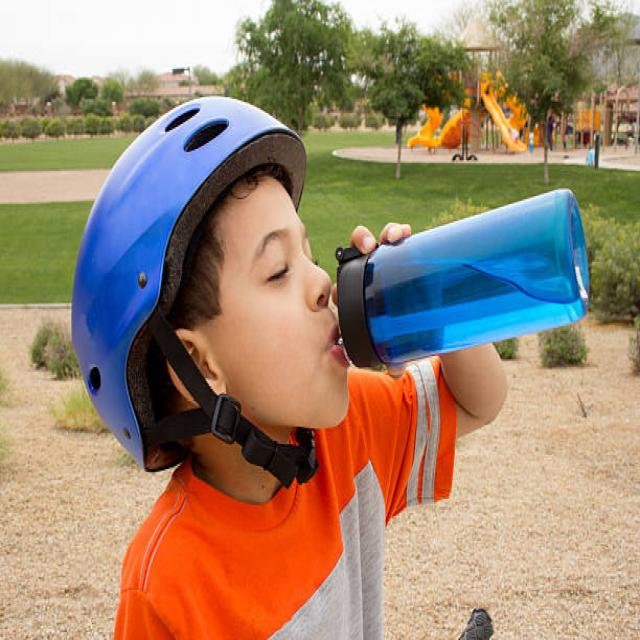blue_bottle: (337, 185, 594, 371)
